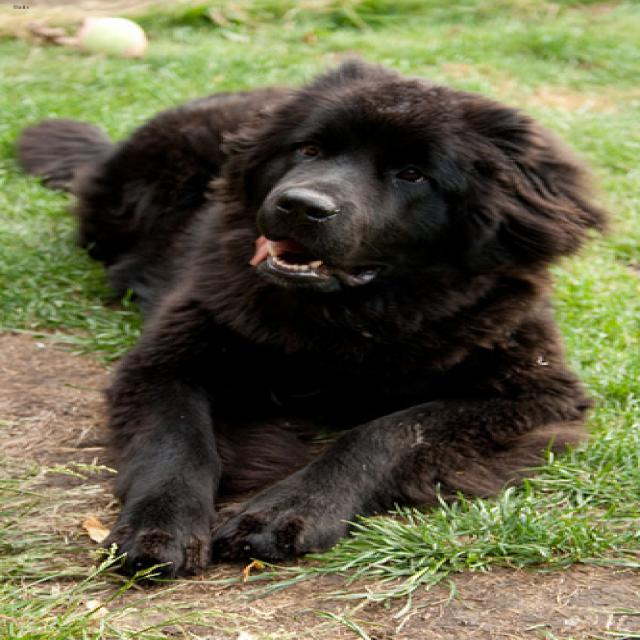dog-newfoundland: (2, 51, 615, 588)
